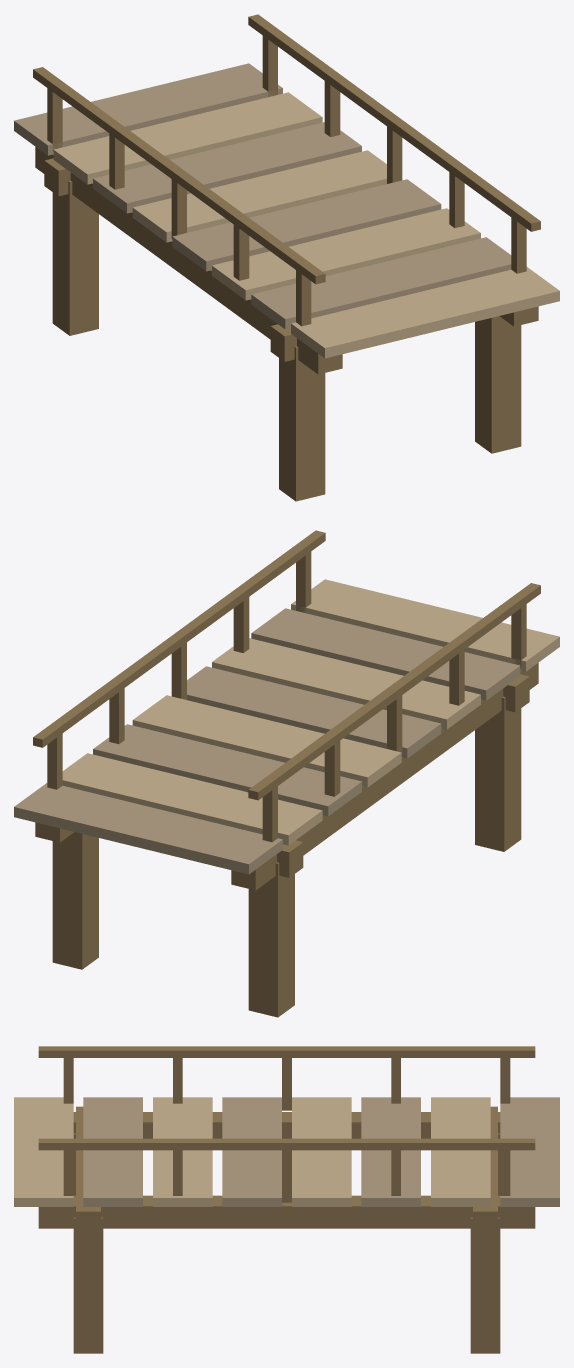
Rendered from prop_bridgewood.glb.
3 views of the same model, one above another, from view 1: azimuth 30°, elevation 25°; view 2: azimuth 150°, elevation 25°; view 3: azimuth 270°, elevation 25° (orthographic). The views are drawn at different scales.
Visible parts, largest first — view 1: Prop_BridgeWood; view 2: Prop_BridgeWood; view 3: Prop_BridgeWood.
Boxes of the visible parts, <box> form: Prop_BridgeWood: <box>14,14,559,501</box>; Prop_BridgeWood: <box>14,530,559,1017</box>; Prop_BridgeWood: <box>14,1046,559,1353</box>.
Bounding box in the file's own units: 2.5 × 2.34 × 5.5.
